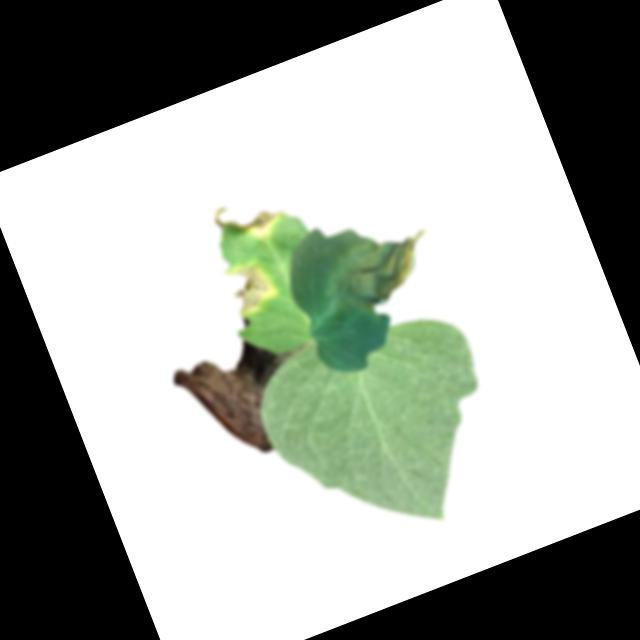Late_blight: (165, 318, 339, 477), (324, 221, 447, 320), (221, 254, 281, 317), (223, 200, 293, 252)
healthy: (241, 291, 524, 567)
